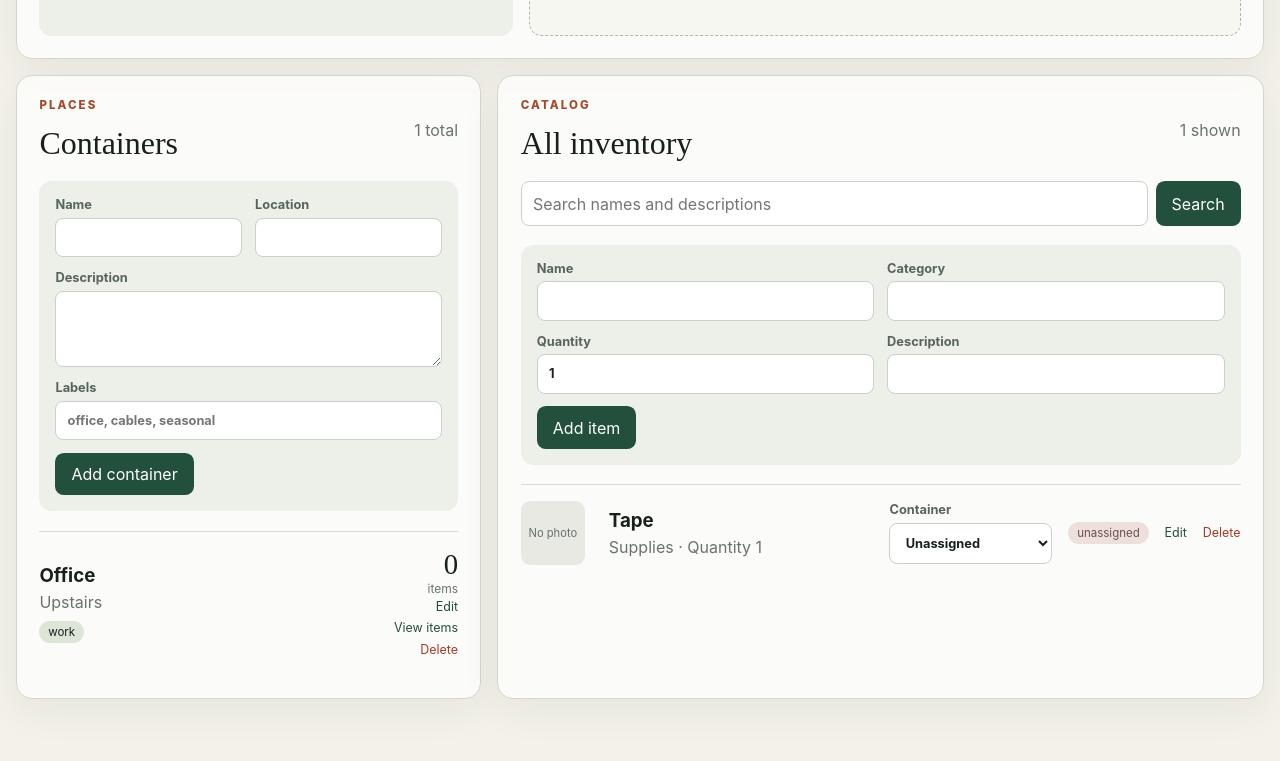
Test: shows a conflict message from a failed mutation
(page scrolled)
Expected: the text "Tape" is shown, left=609, top=509, right=654, bottom=532
Click the button "Delete" in the row of "· Quantity": (1222, 533) left=1203, top=522, right=1241, bottom=544
(page scrolled)
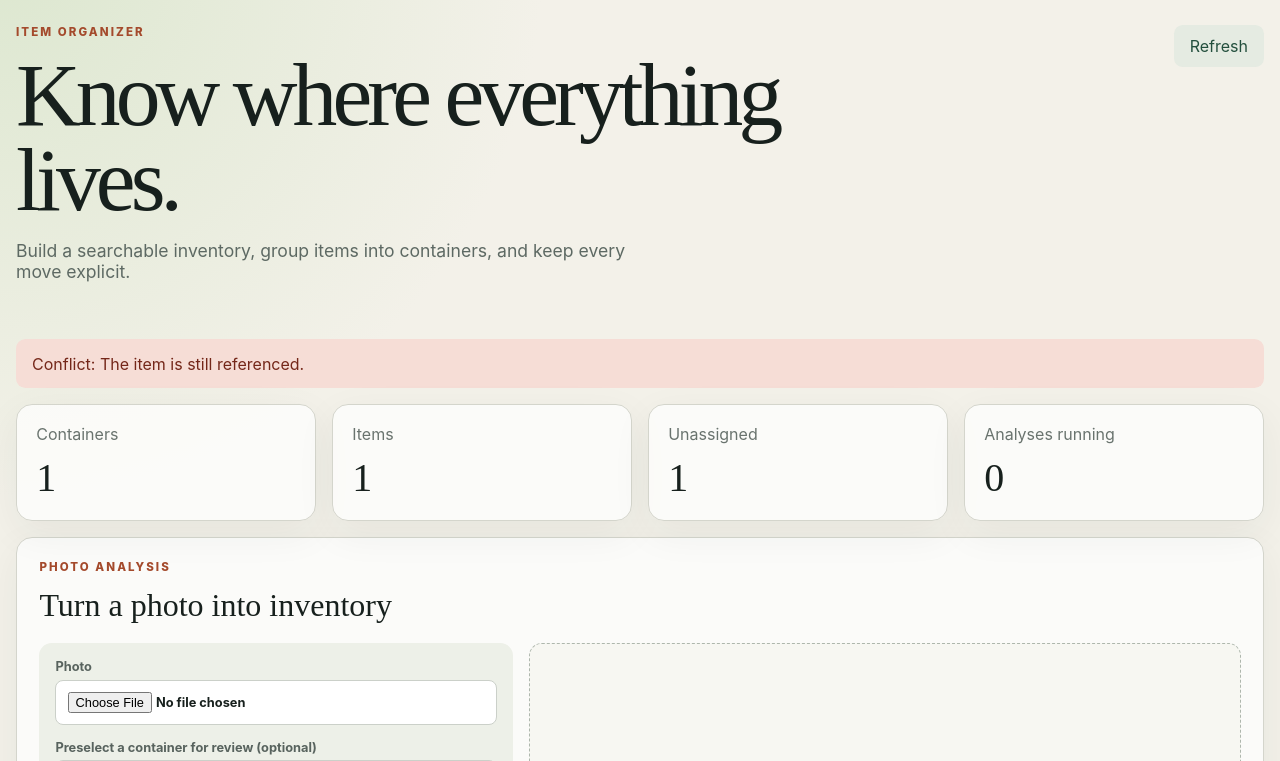
Expected: the message reads "Conflict: The item is still referenced.", left=32, top=354, right=304, bottom=374
